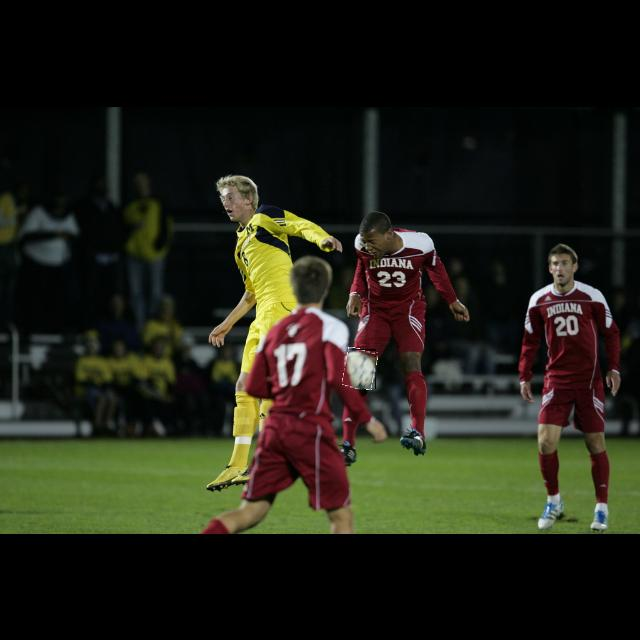Football: (344, 349, 376, 389)
